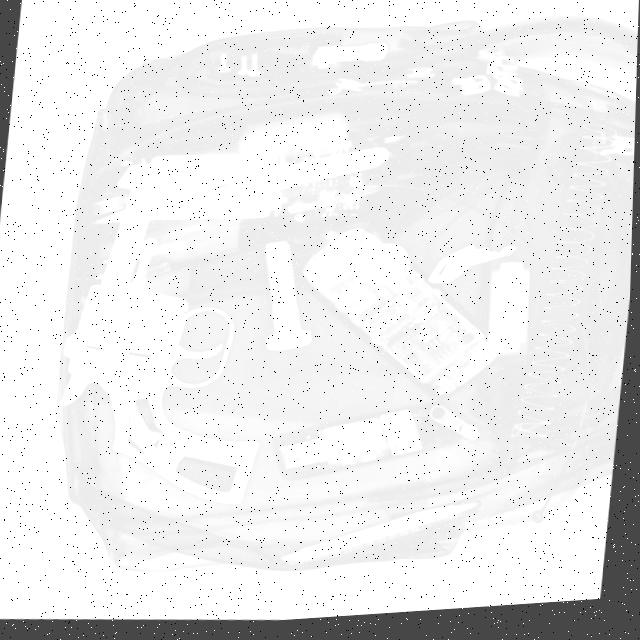pistol: (52, 155, 290, 519)
